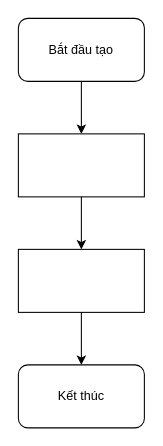
The diagram is 163 pixels wide and 446 high, and some of its shapes have lost their labels. Here are the shapes that lost their labels. From the top down, the box of each, then its label:
(17, 133, 144, 197): Vòng lặp chạy từ 0 đến số đỉnh
(17, 248, 144, 312): Thêm ký tự A + i mỗi lần lặp vô mảng cacDinh
